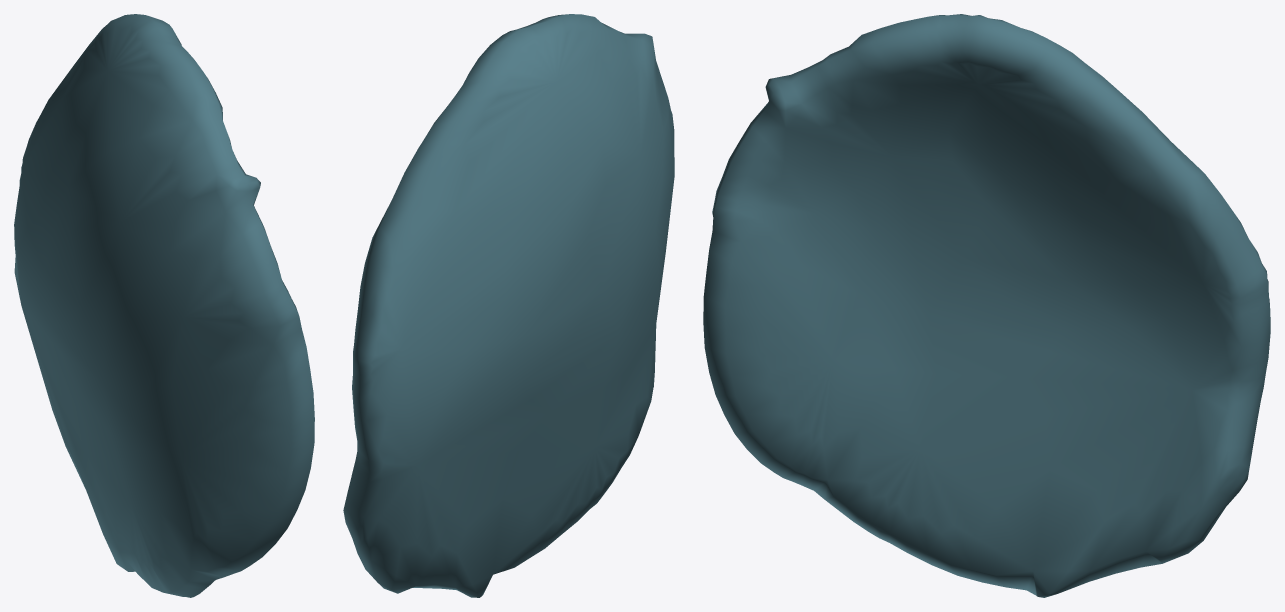
Rendered from Abductor_digiti_minimi_5th_finger_proximal_phalanx_right.glb.
The picture shows the model from 3 angles, left to right: view 1: azimuth 30°, elevation 25°; view 2: azimuth 150°, elevation 25°; view 3: azimuth 270°, elevation 25°; orthographic projection. The views are drawn at different scales.
Parts seen in each view (by area): view 1: Abductor_digiti_minimi_on_base_of_prox._phal._of_5th_finger.; view 2: Abductor_digiti_minimi_on_base_of_prox._phal._of_5th_finger.; view 3: Abductor_digiti_minimi_on_base_of_prox._phal._of_5th_finger..
Part boxes in pixels (left/top/right/bottom): Abductor_digiti_minimi_on_base_of_prox._phal._of_5th_finger.: left=14, top=14, right=314, bottom=597; Abductor_digiti_minimi_on_base_of_prox._phal._of_5th_finger.: left=343, top=14, right=674, bottom=597; Abductor_digiti_minimi_on_base_of_prox._phal._of_5th_finger.: left=703, top=14, right=1270, bottom=597.
Size of the model in its own units: 0.00151 by 0.00548 by 0.00495.
